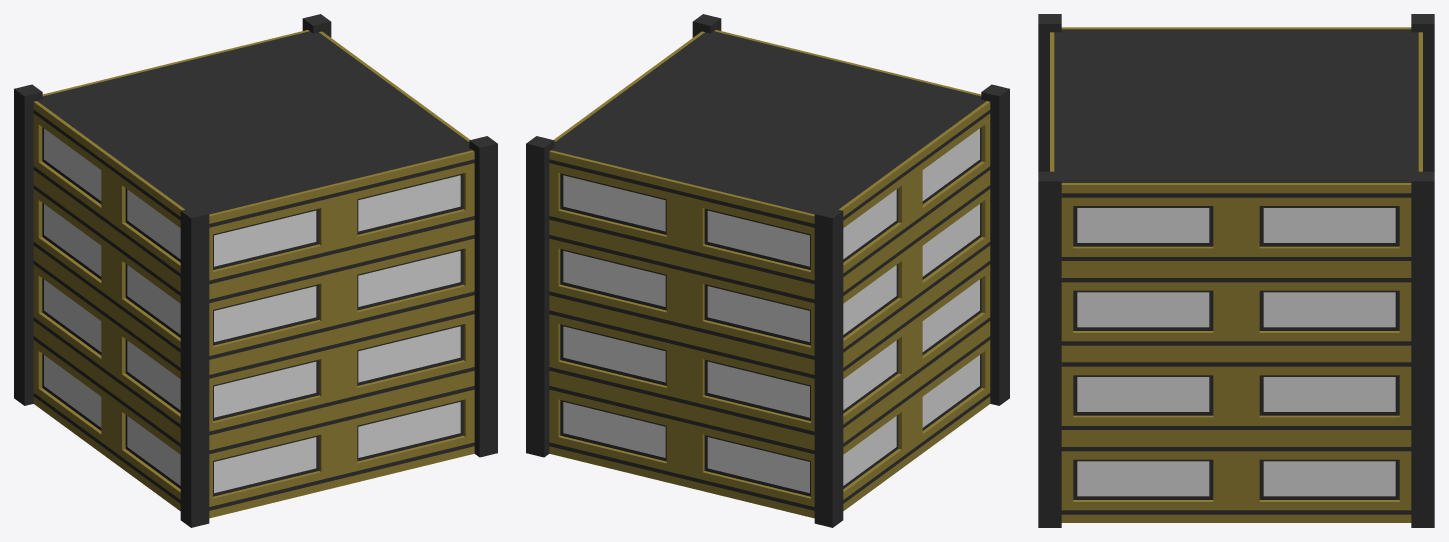
Rendered from Building 3.fbx.
The picture shows the model from 3 angles, left to right: view 1: azimuth 30°, elevation 25°; view 2: azimuth 150°, elevation 25°; view 3: azimuth 270°, elevation 25°; orthographic projection. The views are drawn at different scales.
Visible parts, largest first — view 1: Plane.033, Cube.015, Cube.003, Cube.013, Cube.012, Cube.014, Cube.002, Cube, Cube.001, Plane.023, Plane.021, Plane.017 (+10 smaller); view 2: Plane.033, Cube.011, Cube.007, Cube.009, Cube.008, Cube.010, Cube.006, Cube.004, Cube.005, Plane.024, Plane.022, Plane.018 (+10 smaller); view 3: Plane.033, Plane.007, Plane.008, Plane.003, Plane.004, Plane.002, Plane.006, Plane.001, Plane.005, Cube.003, Cube.007, Cube (+11 smaller).
Part boxes in pixels (bbox=[...]): Plane.033: bbox=[37, 31, 471, 214]; Cube.015: bbox=[180, 183, 339, 301]; Cube.003: bbox=[338, 136, 497, 259]; Cube.013: bbox=[180, 336, 339, 452]; Cube.012: bbox=[180, 411, 339, 527]; Cube.014: bbox=[180, 260, 339, 376]; Cube.002: bbox=[339, 226, 497, 335]; Cube: bbox=[339, 377, 497, 486]; Cube.001: bbox=[339, 302, 497, 410]; Plane.023: bbox=[33, 101, 114, 233]; Plane.021: bbox=[33, 177, 111, 309]; Plane.017: bbox=[33, 328, 111, 460]; Plane.033: bbox=[552, 31, 986, 214]; Cube.011: bbox=[684, 183, 843, 301]; Cube.007: bbox=[526, 136, 685, 259]; Cube.009: bbox=[684, 336, 843, 452]; Cube.008: bbox=[684, 411, 843, 527]; Cube.010: bbox=[684, 260, 843, 376]; Cube.006: bbox=[526, 226, 684, 335]; Cube.004: bbox=[526, 377, 684, 486]; Cube.005: bbox=[526, 302, 684, 410]; Plane.024: bbox=[909, 101, 990, 233]; Plane.022: bbox=[912, 177, 990, 309]; Plane.018: bbox=[912, 328, 990, 460]; Plane.033: bbox=[1054, 29, 1418, 182]; Plane.007: bbox=[1061, 183, 1236, 269]; Plane.008: bbox=[1236, 183, 1411, 269]; Plane.003: bbox=[1061, 354, 1236, 438]; Plane.004: bbox=[1236, 354, 1411, 438]; Plane.002: bbox=[1236, 438, 1411, 522]; Plane.006: bbox=[1236, 269, 1411, 353]; Plane.001: bbox=[1061, 438, 1236, 522]; Plane.005: bbox=[1061, 269, 1236, 353]; Cube.003: bbox=[1038, 106, 1061, 274]; Cube.007: bbox=[1411, 106, 1434, 274]; Cube: bbox=[1038, 443, 1061, 527].
Bounding box in the file's own units: 850 × 820 × 850.
